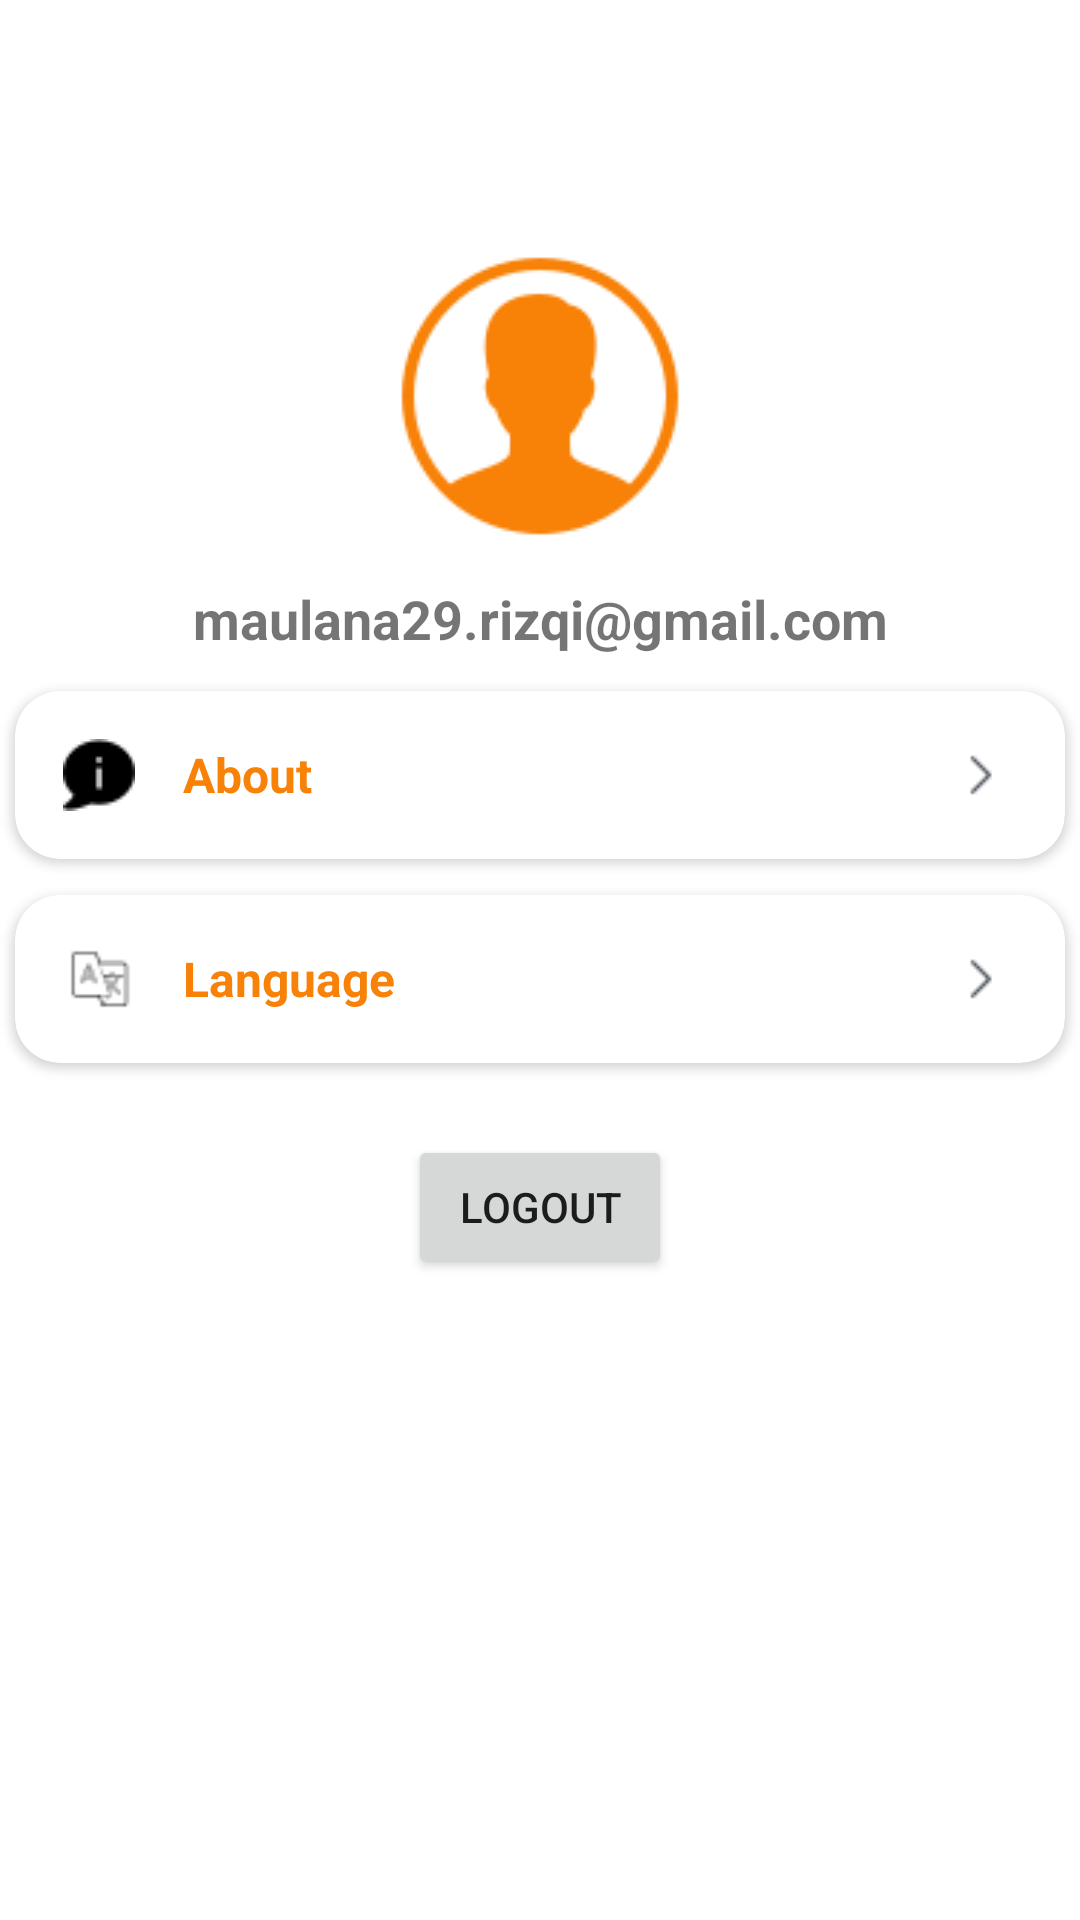

Where icons sit on this 1080x1920 app screen, as {"x1": x1, "y1": y1, "x2": x2, "y2": y2}:
account: {"x1": 401, "y1": 257, "x2": 679, "y2": 535}
arrow right: {"x1": 970, "y1": 755, "x2": 992, "y2": 795}, {"x1": 970, "y1": 959, "x2": 992, "y2": 999}
